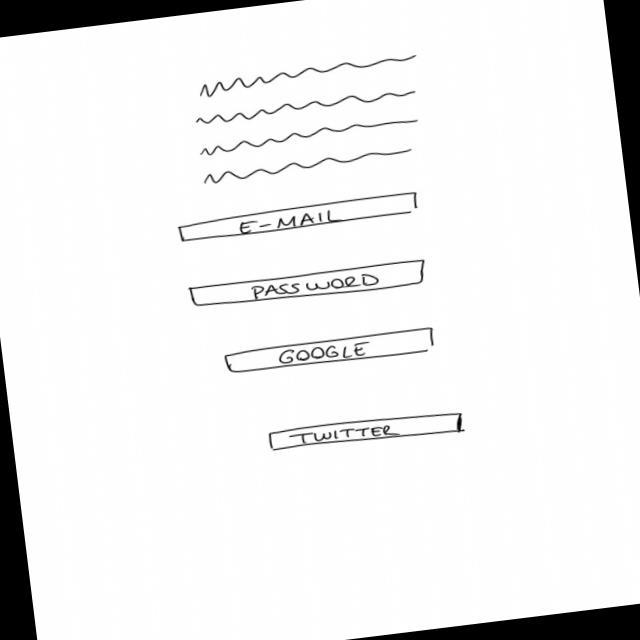button: (187, 255, 431, 314), (176, 190, 424, 247), (221, 325, 440, 378), (265, 406, 468, 458)
textbox: (184, 51, 432, 191)
